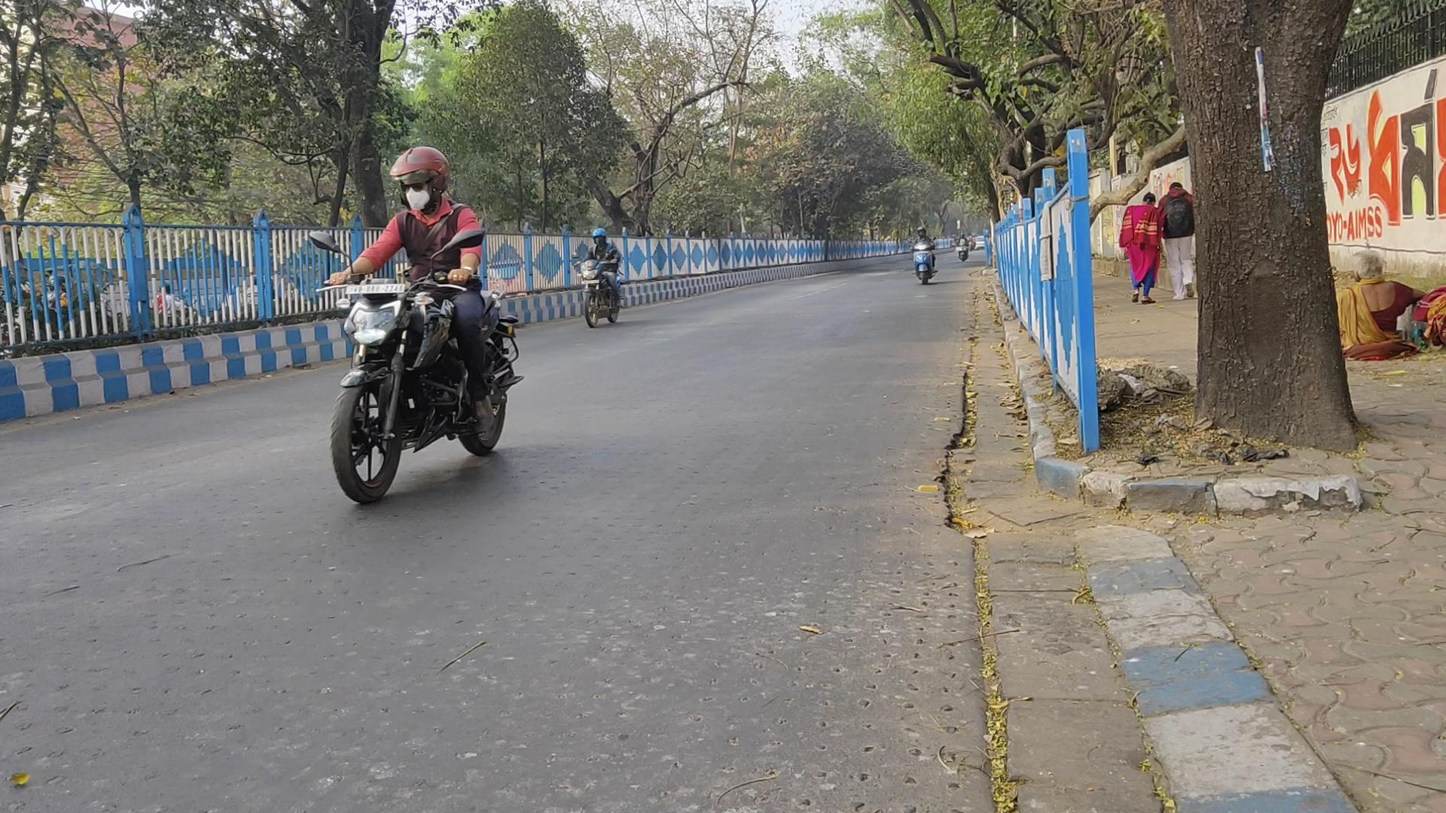bike: (317, 145, 525, 505), (577, 227, 623, 328), (912, 224, 937, 285), (956, 232, 970, 262)
